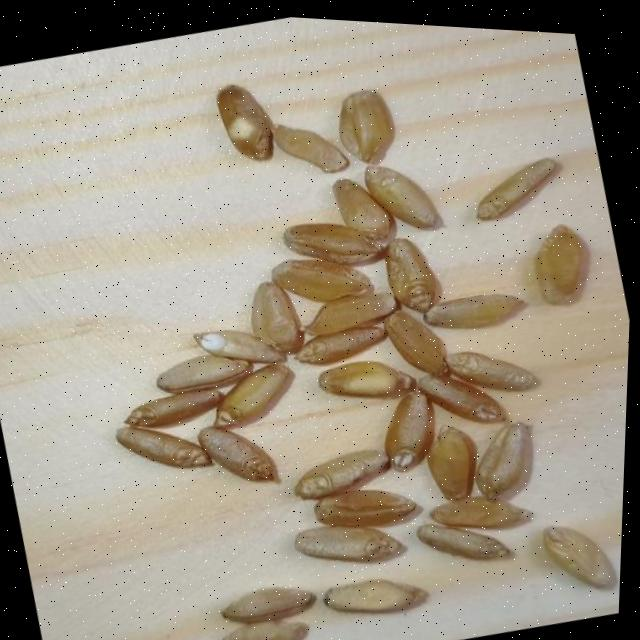wheat_grain: (475, 157, 557, 221), (364, 163, 442, 229), (214, 362, 292, 427), (542, 524, 615, 588), (385, 307, 449, 378), (416, 372, 505, 423), (198, 425, 279, 481), (272, 258, 373, 302), (296, 451, 392, 497), (126, 386, 233, 427), (476, 421, 531, 500), (300, 291, 394, 337), (216, 84, 272, 160), (284, 222, 386, 263), (332, 178, 395, 244), (534, 225, 587, 303), (115, 425, 211, 468), (294, 525, 405, 562), (384, 237, 439, 311), (339, 90, 393, 164), (157, 352, 258, 391), (312, 490, 416, 527), (384, 391, 432, 471), (273, 124, 349, 174), (252, 280, 303, 353), (417, 523, 514, 561), (427, 426, 476, 501), (324, 578, 429, 613), (297, 324, 387, 364), (222, 585, 314, 624), (318, 361, 414, 398), (445, 351, 537, 389), (424, 295, 526, 329), (195, 329, 289, 365), (428, 497, 528, 530)
